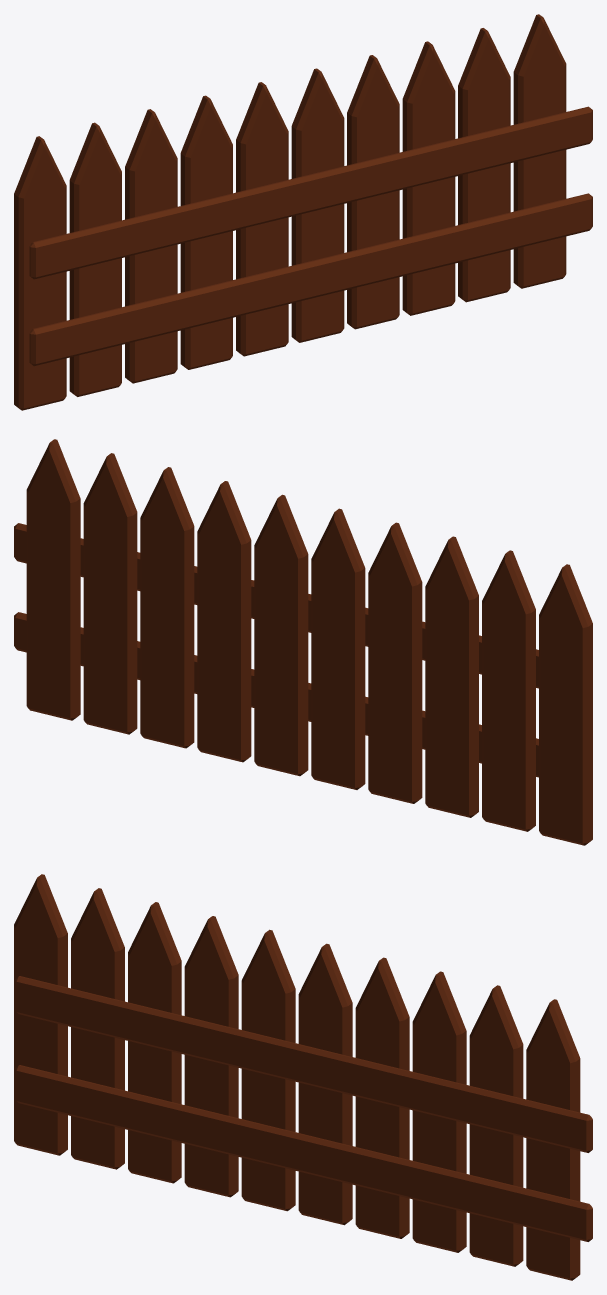
File: F_Fence.fbx
3 renders of one model, top to bottom at view 1: azimuth 30°, elevation 25°; view 2: azimuth 150°, elevation 25°; view 3: azimuth 330°, elevation 25°, orthographic. The views are drawn at different scales.
Visible parts, largest first — view 1: F_Fence; view 2: F_Fence; view 3: F_Fence.
Boxes of the visible parts, x1=… form: F_Fence: x1=14, y1=14, x2=592, y2=410; F_Fence: x1=14, y1=439, x2=592, y2=845; F_Fence: x1=14, y1=874, x2=592, y2=1280.
Bounding box in the file's own units: 1648 × 736 × 70.09.
